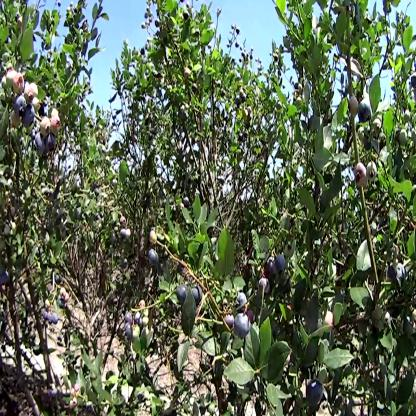intermediate: (356, 163, 367, 189), (25, 84, 39, 104), (52, 116, 62, 137), (7, 65, 17, 84), (14, 75, 24, 93), (325, 311, 334, 330), (149, 231, 159, 248), (61, 288, 66, 299), (139, 300, 145, 308), (66, 295, 70, 302)
mature: (388, 262, 406, 287), (308, 380, 323, 406), (235, 315, 249, 338), (21, 109, 35, 128), (274, 257, 287, 277), (266, 257, 277, 280), (44, 136, 57, 152), (360, 103, 372, 120), (258, 280, 270, 297), (35, 134, 44, 156), (15, 97, 27, 113), (193, 286, 203, 303), (177, 285, 187, 301), (238, 295, 248, 309), (223, 315, 234, 327), (150, 250, 158, 266), (124, 324, 132, 340), (1, 272, 10, 286), (126, 313, 133, 330), (135, 313, 142, 329), (364, 132, 370, 147), (122, 226, 128, 238), (237, 94, 242, 108), (183, 196, 189, 205), (124, 258, 128, 269), (54, 315, 59, 323), (55, 274, 60, 282), (60, 300, 65, 308), (242, 93, 246, 102), (142, 48, 145, 56), (47, 314, 50, 322), (50, 317, 53, 323)
young: (41, 117, 52, 138), (368, 164, 378, 182), (349, 98, 358, 116), (133, 323, 141, 339), (383, 311, 392, 325), (401, 129, 407, 147), (143, 318, 150, 328), (143, 310, 148, 318)
